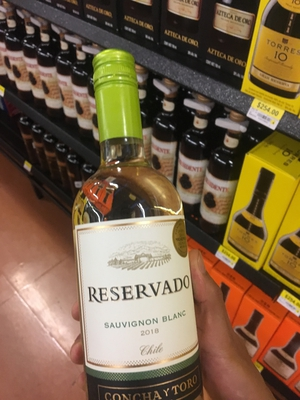reservado sauvignon blanc: (65, 55, 208, 400)
